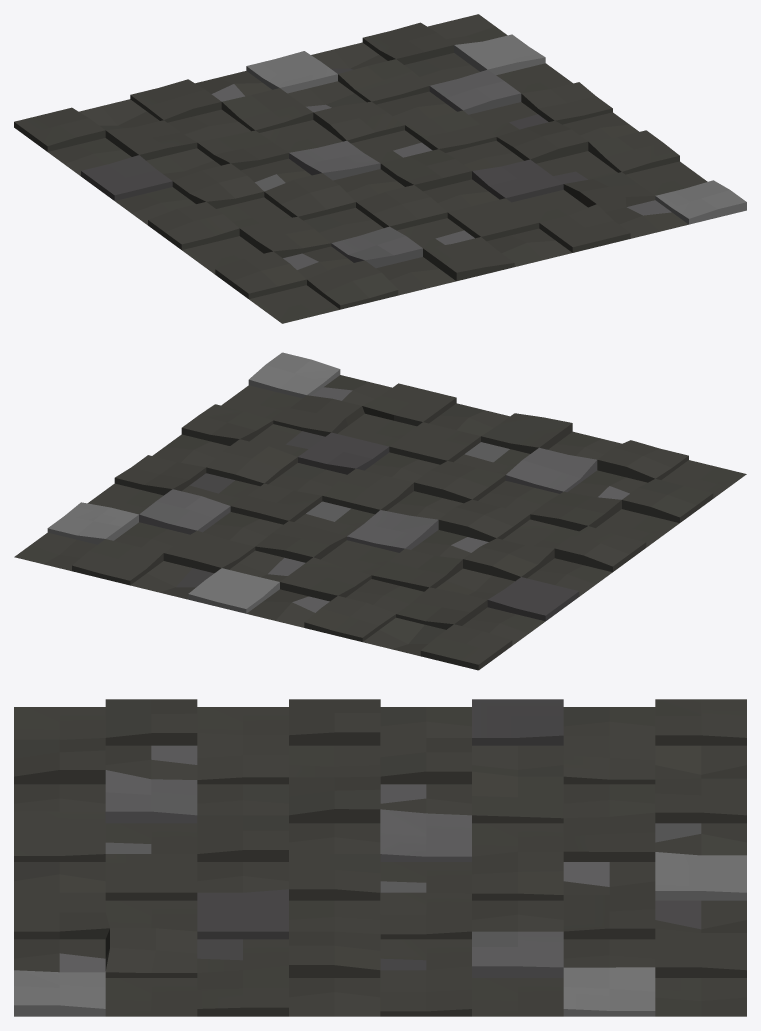
Rendered from Big_Tyled_Floor.obj.
3 views of the same model, one above another, from view 1: azimuth 30°, elevation 25°; view 2: azimuth 150°, elevation 25°; view 3: azimuth 270°, elevation 25° (orthographic). The views are drawn at different scales.
Visible parts, largest first — view 1: Big_Tyled_Floor; view 2: Big_Tyled_Floor; view 3: Big_Tyled_Floor.
Boxes of the visible parts, bbox=[...] form: Big_Tyled_Floor: bbox=[14, 14, 746, 323]; Big_Tyled_Floor: bbox=[14, 352, 746, 670]; Big_Tyled_Floor: bbox=[14, 699, 746, 1016].
Bounding box in the file's own units: 4 × 0.1463 × 4.
Materials: 1 (1 with a texture image).
